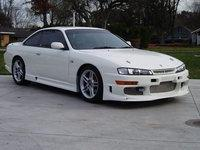Car: (3, 21, 192, 110)
